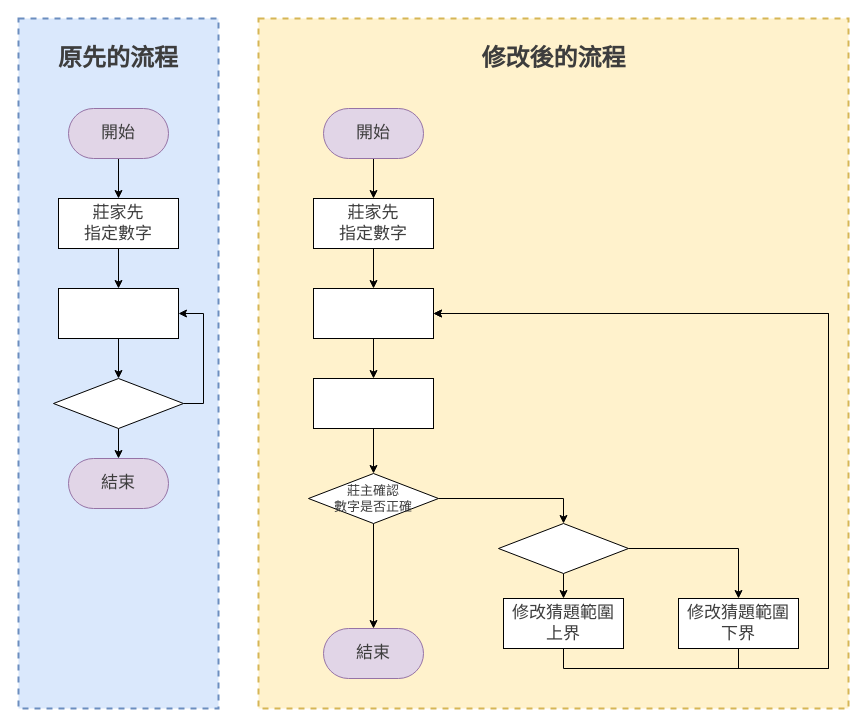
Image size: 866x726. Some labels were removed from this diagram. The centre of each missing label's shape, as x and y in pixels:
挑戰者猜數字: [118,313]
挑戰者確認猜題範圍: [373,313]
是否正確: [118,403]
是否過大: [563,548]
選擇猜題範圍的一半作為猜題數字: [373,403]
